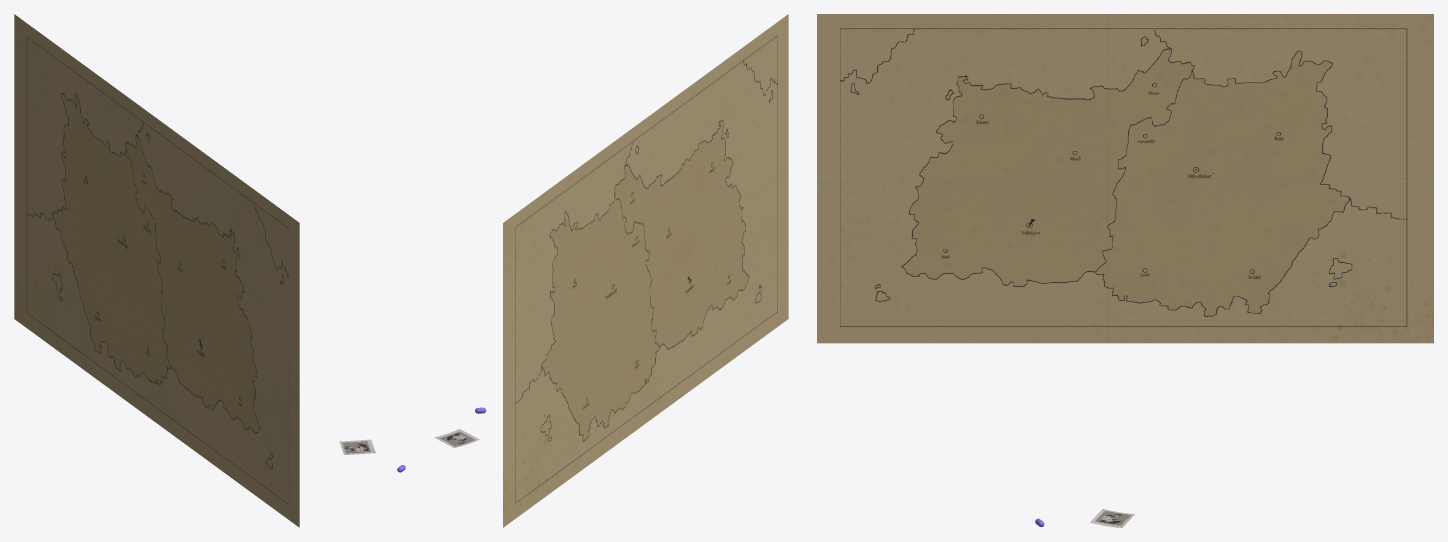
The model's file is stuff.fbx.
The picture shows the model from 3 angles, left to right: view 1: azimuth 30°, elevation 25°; view 2: azimuth 150°, elevation 25°; view 3: azimuth 270°, elevation 25°; orthographic projection. The views are drawn at different scales.
Visible parts, largest first — view 1: Map, Plane.010; view 2: Map, Plane.010; view 3: Map.
Part boxes in pixels (bbox=[...]): Map: bbox=[14, 14, 299, 527]; Plane.010: bbox=[339, 439, 375, 454]; Map: bbox=[503, 14, 788, 527]; Plane.010: bbox=[434, 429, 479, 447]; Map: bbox=[817, 14, 1433, 343].
Bounding box in the file's own units: 166 × 278 × 385.
